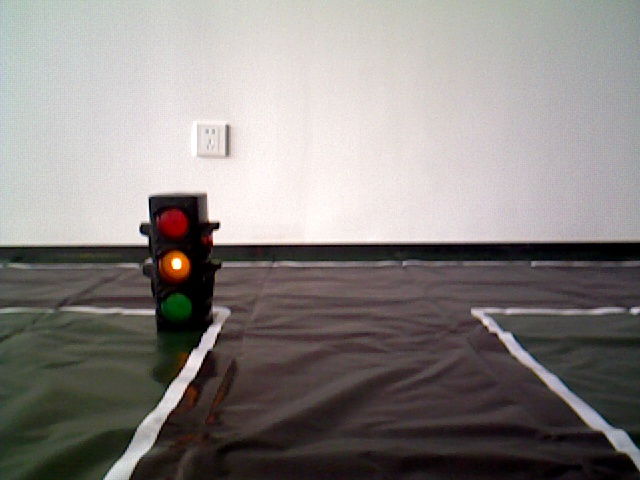yellow: (147, 190, 214, 335)
